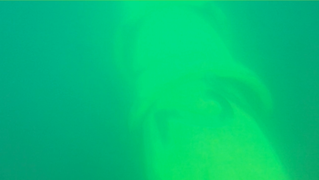2: (154, 88, 235, 147)
pipe: (112, 1, 292, 179)
